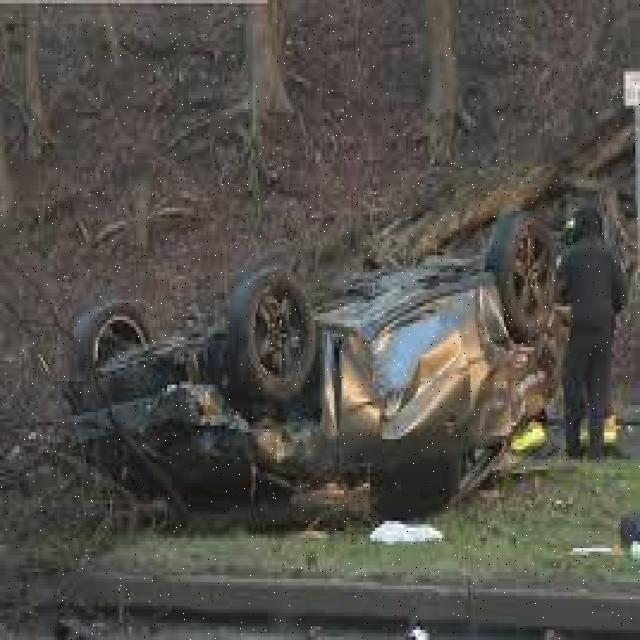severe: (52, 196, 564, 526)
